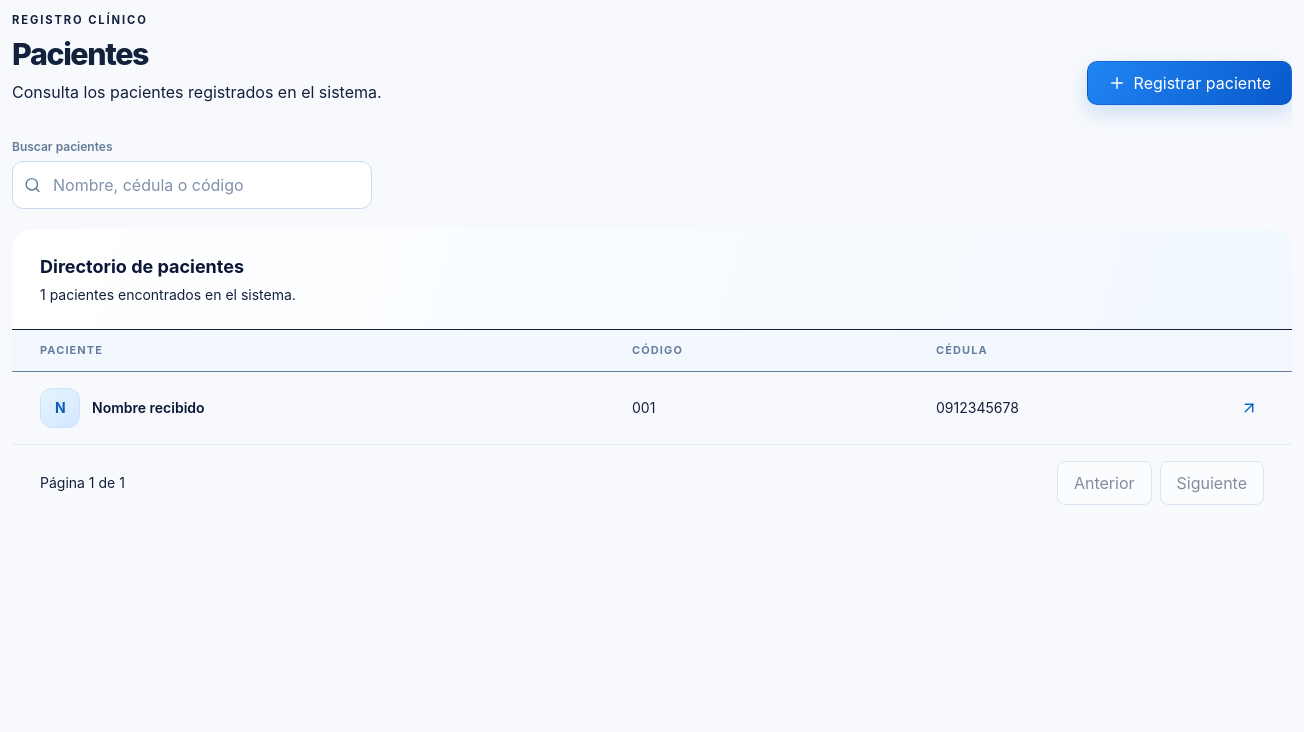
Scenario: patient views › refreshes the unfiltered page after creation without refetching the superseded search
Later steps or results of the test are not shown.
Expected: the link "N Nombre recibido 001 0912345678" is shown, [40,388,1258,428]
Step 1. Type "Sin coincidencias" into the search field labelled "Buscar pacientes" → (192, 185), box [12,161,372,209]
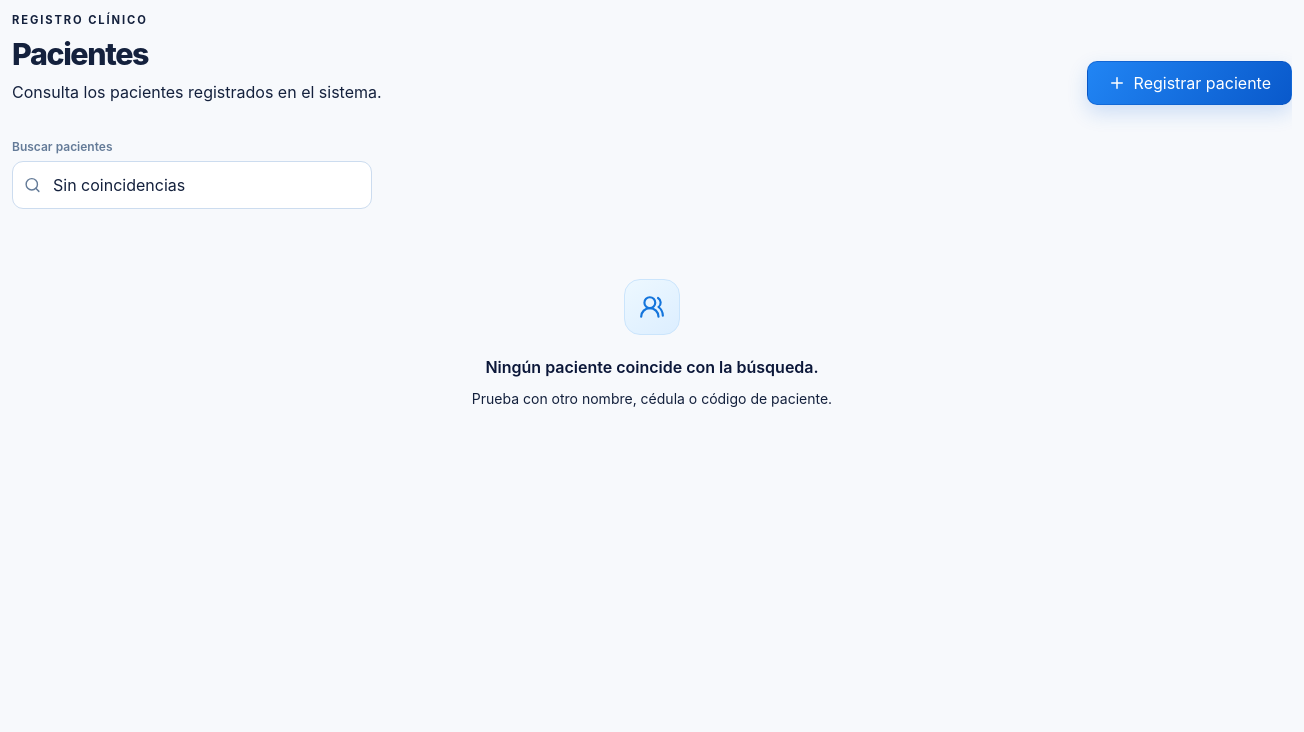
Now the text "Ningún paciente coincide con la búsqueda." is shown, box [485,355,819,379]
